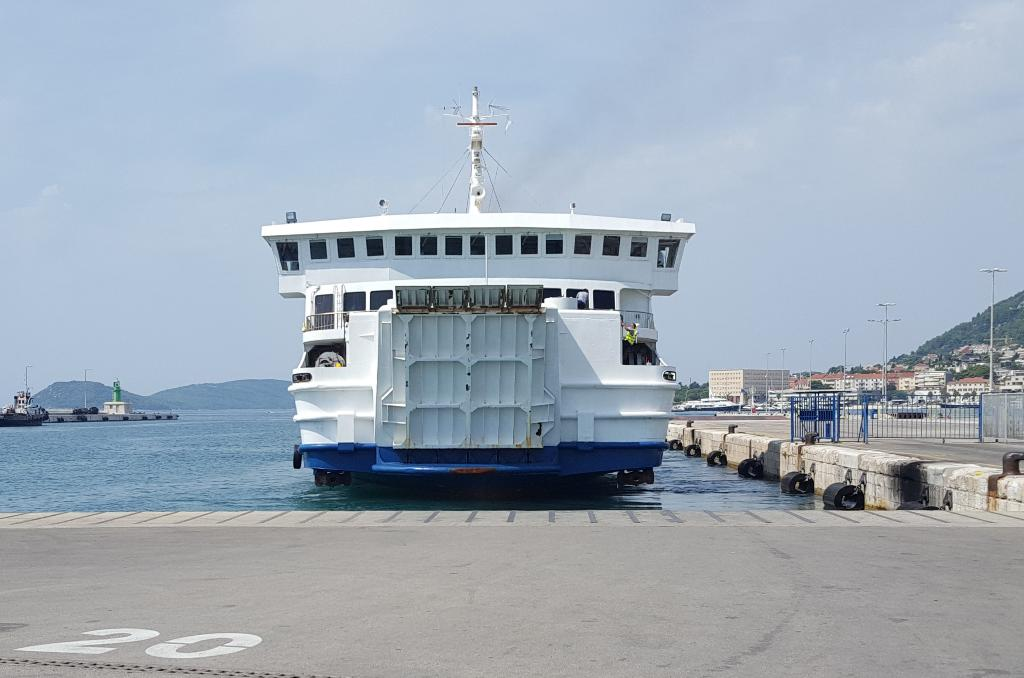PassengerShip: (251, 80, 703, 492)
